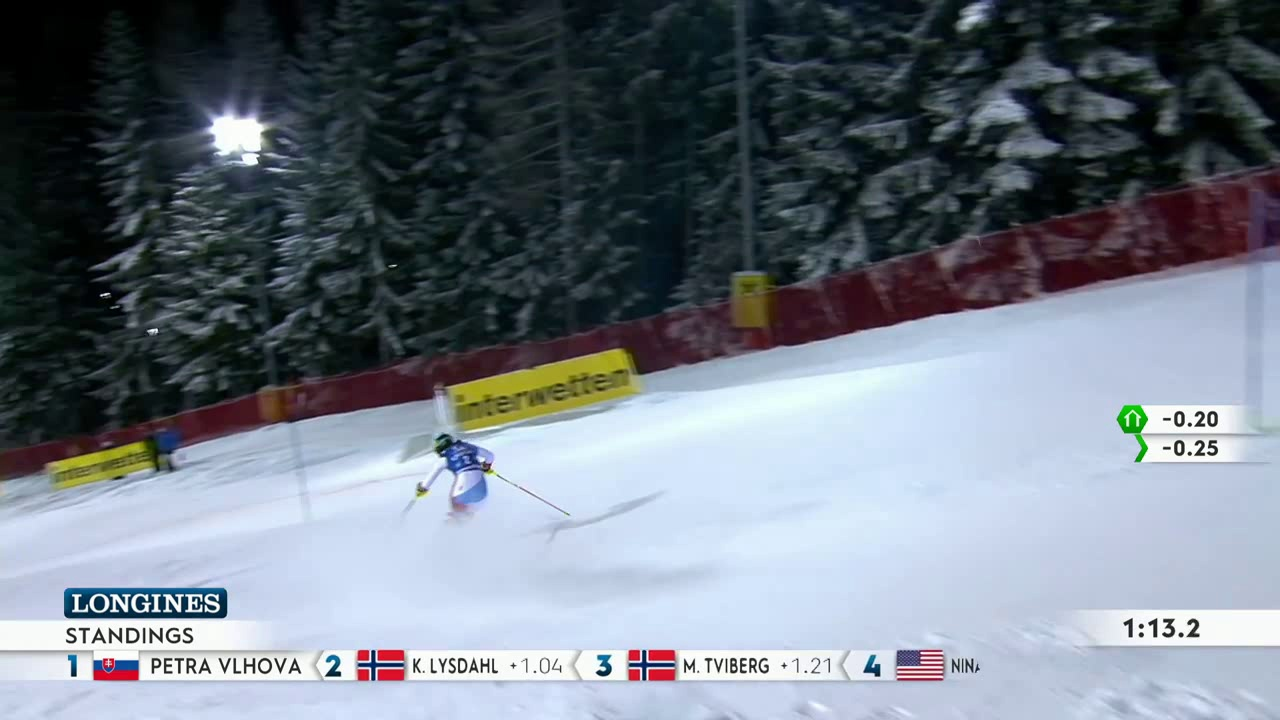longines: (67, 584, 224, 622)
raiffeisen: (452, 365, 620, 428)
